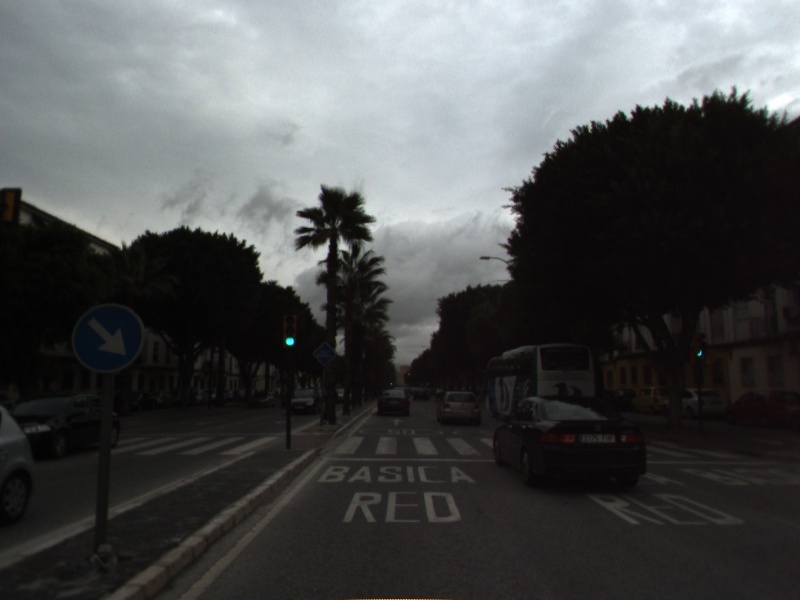STRAIGHT: (387, 416, 407, 428)
